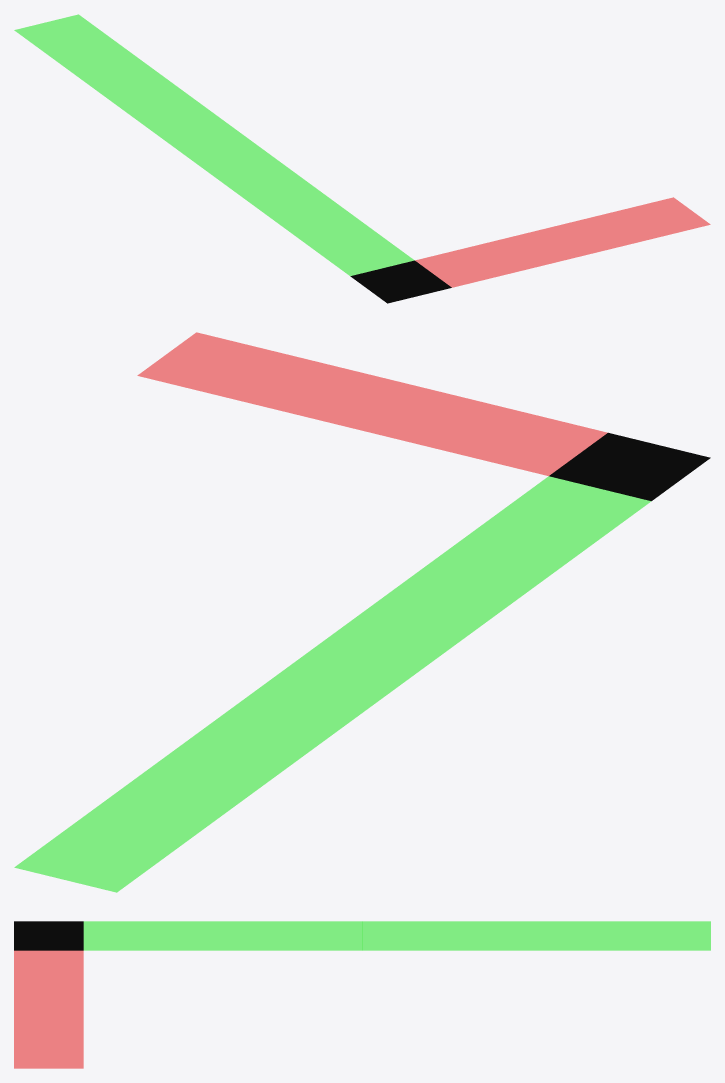
The model's file is Elements_Spatial_CellComplex_TraverseFaces.glb.
The picture shows the model from 3 angles, top to bottom: view 1: azimuth 30°, elevation 25°; view 2: azimuth 150°, elevation 25°; view 3: azimuth 270°, elevation 25°; orthographic projection. The views are drawn at different scales.
Parts seen in each view (by area): view 1: 852695f5-4941-459f-ba70-9129b55b0d4a_mesh, 4ca050c5-9c47-4043-b1e9-2e261eb4f73e_mesh, 38f267fc-d5bd-4eed-9818-555283099532_mesh, 03e75db9-b9d8-4bcc-b390-ac1a1c023304_mesh, 230b9963-2d6c-4a1c-8af8-fe51f2079732_mesh, 8dea1287-99d6-4059-951f-bf5d3c3ab096_mesh, 48403c1b-7f6c-4128-b7ae-aebc7fa6180d_mesh, 5cb48afe-3f13-4225-9570-7dcd04e24b7a_mesh, 47696054-5c52-4389-b9c7-a50258339973_mesh, 577ba512-22ea-4cd1-80ab-a846306f0da5_mesh, af44b3de-6f58-4d9d-9f42-bb39ef7cf10f_mesh, e9007f0f-830b-40c8-832d-d28cbfdda225_mesh (+2 smaller); view 2: 852695f5-4941-459f-ba70-9129b55b0d4a_mesh, 577ba512-22ea-4cd1-80ab-a846306f0da5_mesh, af44b3de-6f58-4d9d-9f42-bb39ef7cf10f_mesh, 230b9963-2d6c-4a1c-8af8-fe51f2079732_mesh, 36435c98-5463-41e6-8937-7d21b5e4fe82_mesh, 68fafea5-0dd1-4b42-ad80-7942d91ffab2_mesh, 38f267fc-d5bd-4eed-9818-555283099532_mesh, 48403c1b-7f6c-4128-b7ae-aebc7fa6180d_mesh, 5cb48afe-3f13-4225-9570-7dcd04e24b7a_mesh, 03e75db9-b9d8-4bcc-b390-ac1a1c023304_mesh, e9007f0f-830b-40c8-832d-d28cbfdda225_mesh, 4ca050c5-9c47-4043-b1e9-2e261eb4f73e_mesh (+2 smaller); view 3: 38f267fc-d5bd-4eed-9818-555283099532_mesh, 03e75db9-b9d8-4bcc-b390-ac1a1c023304_mesh, e9007f0f-830b-40c8-832d-d28cbfdda225_mesh, 577ba512-22ea-4cd1-80ab-a846306f0da5_mesh, 47696054-5c52-4389-b9c7-a50258339973_mesh, 68fafea5-0dd1-4b42-ad80-7942d91ffab2_mesh, 852695f5-4941-459f-ba70-9129b55b0d4a_mesh, 5cb48afe-3f13-4225-9570-7dcd04e24b7a_mesh, af44b3de-6f58-4d9d-9f42-bb39ef7cf10f_mesh, 230b9963-2d6c-4a1c-8af8-fe51f2079732_mesh, 8dea1287-99d6-4059-951f-bf5d3c3ab096_mesh, 4ca050c5-9c47-4043-b1e9-2e261eb4f73e_mesh (+2 smaller).
Boxes of the visible parts, x1=… form: 852695f5-4941-459f-ba70-9129b55b0d4a_mesh: x1=350, y1=260, x2=451, y2=303; 4ca050c5-9c47-4043-b1e9-2e261eb4f73e_mesh: x1=126, y1=96, x2=227, y2=139; 38f267fc-d5bd-4eed-9818-555283099532_mesh: x1=415, y1=245, x2=516, y2=287; 03e75db9-b9d8-4bcc-b390-ac1a1c023304_mesh: x1=545, y1=213, x2=645, y2=255; 230b9963-2d6c-4a1c-8af8-fe51f2079732_mesh: x1=276, y1=206, x2=376, y2=248; 8dea1287-99d6-4059-951f-bf5d3c3ab096_mesh: x1=238, y1=178, x2=339, y2=221; 48403c1b-7f6c-4128-b7ae-aebc7fa6180d_mesh: x1=14, y1=14, x2=115, y2=57; 5cb48afe-3f13-4225-9570-7dcd04e24b7a_mesh: x1=480, y1=229, x2=580, y2=271; 47696054-5c52-4389-b9c7-a50258339973_mesh: x1=313, y1=233, x2=414, y2=275; 577ba512-22ea-4cd1-80ab-a846306f0da5_mesh: x1=164, y1=124, x2=264, y2=166; af44b3de-6f58-4d9d-9f42-bb39ef7cf10f_mesh: x1=609, y1=197, x2=710, y2=240; e9007f0f-830b-40c8-832d-d28cbfdda225_mesh: x1=201, y1=151, x2=302, y2=193; 852695f5-4941-459f-ba70-9129b55b0d4a_mesh: x1=549, y1=432, x2=710, y2=501; 577ba512-22ea-4cd1-80ab-a846306f0da5_mesh: x1=252, y1=650, x2=413, y2=718; af44b3de-6f58-4d9d-9f42-bb39ef7cf10f_mesh: x1=137, y1=332, x2=298, y2=400; 230b9963-2d6c-4a1c-8af8-fe51f2079732_mesh: x1=430, y1=519, x2=591, y2=587; 36435c98-5463-41e6-8937-7d21b5e4fe82_mesh: x1=133, y1=737, x2=294, y2=805; 68fafea5-0dd1-4b42-ad80-7942d91ffab2_mesh: x1=74, y1=781, x2=234, y2=848; 38f267fc-d5bd-4eed-9818-555283099532_mesh: x1=446, y1=407, x2=607, y2=475; 48403c1b-7f6c-4128-b7ae-aebc7fa6180d_mesh: x1=14, y1=824, x2=175, y2=892; 5cb48afe-3f13-4225-9570-7dcd04e24b7a_mesh: x1=343, y1=382, x2=504, y2=450; 03e75db9-b9d8-4bcc-b390-ac1a1c023304_mesh: x1=240, y1=357, x2=401, y2=425; e9007f0f-830b-40c8-832d-d28cbfdda225_mesh: x1=311, y1=607, x2=472, y2=674; 4ca050c5-9c47-4043-b1e9-2e261eb4f73e_mesh: x1=193, y1=694, x2=353, y2=761; 38f267fc-d5bd-4eed-9818-555283099532_mesh: x1=14, y1=950, x2=83, y2=980; 03e75db9-b9d8-4bcc-b390-ac1a1c023304_mesh: x1=14, y1=1009, x2=83, y2=1039; e9007f0f-830b-40c8-832d-d28cbfdda225_mesh: x1=292, y1=921, x2=362, y2=950; 577ba512-22ea-4cd1-80ab-a846306f0da5_mesh: x1=362, y1=921, x2=432, y2=950; 47696054-5c52-4389-b9c7-a50258339973_mesh: x1=83, y1=921, x2=153, y2=950; 68fafea5-0dd1-4b42-ad80-7942d91ffab2_mesh: x1=571, y1=921, x2=641, y2=950; 852695f5-4941-459f-ba70-9129b55b0d4a_mesh: x1=14, y1=921, x2=83, y2=950; 5cb48afe-3f13-4225-9570-7dcd04e24b7a_mesh: x1=14, y1=980, x2=83, y2=1009; af44b3de-6f58-4d9d-9f42-bb39ef7cf10f_mesh: x1=14, y1=1039, x2=83, y2=1068; 230b9963-2d6c-4a1c-8af8-fe51f2079732_mesh: x1=153, y1=921, x2=222, y2=950; 8dea1287-99d6-4059-951f-bf5d3c3ab096_mesh: x1=223, y1=921, x2=292, y2=950; 4ca050c5-9c47-4043-b1e9-2e261eb4f73e_mesh: x1=432, y1=921, x2=501, y2=950.
Bounding box in the file's own units: 50 × 7.11e-15 × 100.
